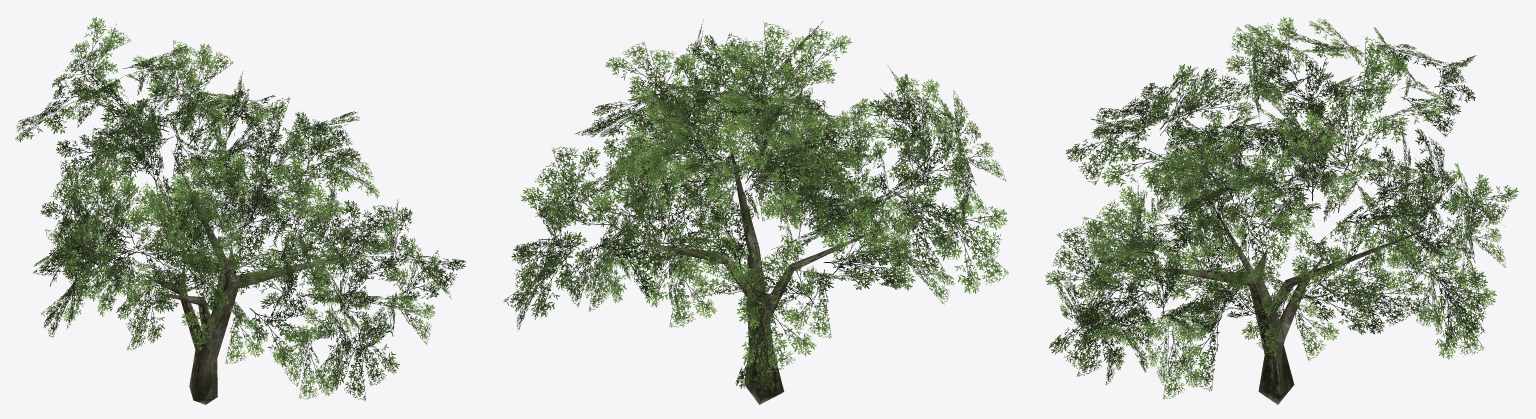
Rendered from thin_leave_tree_big_bright_green_lod2.fbx.
3 renders of one model, left to right at view 1: azimuth 30°, elevation 25°; view 2: azimuth 150°, elevation 25°; view 3: azimuth 270°, elevation 25°, orthographic. The views are drawn at different scales.
Parts seen in each view (by area): view 1: leaf_thin_leave_tree, trunk_thin_leave_tree; view 2: leaf_thin_leave_tree, trunk_thin_leave_tree; view 3: leaf_thin_leave_tree, trunk_thin_leave_tree.
Part boxes in pixels (x1,y1,x2,y2): leaf_thin_leave_tree: (15,17,465,401); trunk_thin_leave_tree: (147,150,354,404); leaf_thin_leave_tree: (503,20,1008,389); trunk_thin_leave_tree: (632,141,888,404); leaf_thin_leave_tree: (1045,17,1518,399); trunk_thin_leave_tree: (1148,205,1433,404).
Size of the model in its own units: 3.66 by 3.1 by 3.7.
2 materials, 2 textured.
